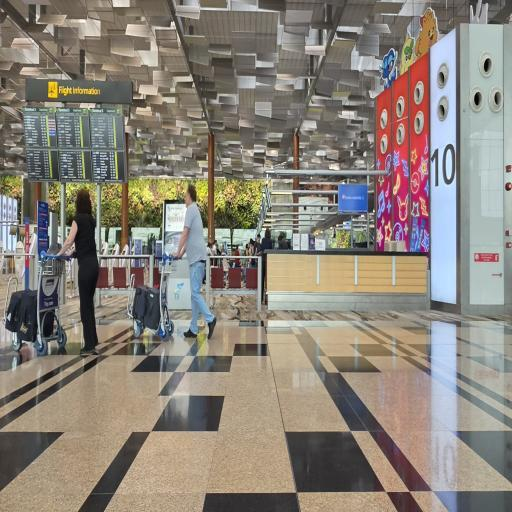person_with_luggage_left: (3, 176, 111, 360), (120, 191, 216, 339)
